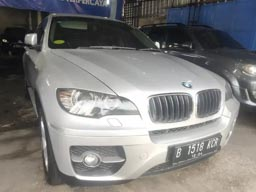plat: (172, 137, 219, 164)
